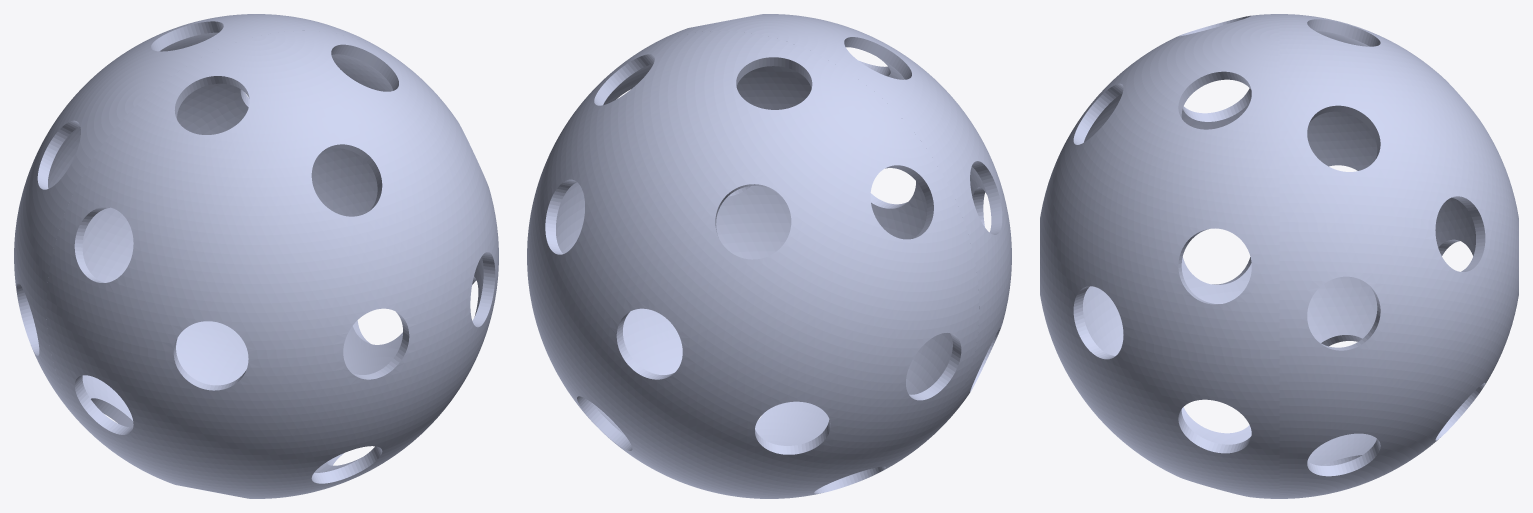
File: pollen.glb
3 renders of one model, left to right at view 1: azimuth 30°, elevation 25°; view 2: azimuth 150°, elevation 25°; view 3: azimuth 270°, elevation 25°, orthographic.
Visible parts, largest first — view 1: am-5851_yellow Neutral Pollen; view 2: am-5851_yellow Neutral Pollen; view 3: am-5851_yellow Neutral Pollen.
Part boxes in pixels (x1,y1,x2,y2): am-5851_yellow Neutral Pollen: (14,14,498,498); am-5851_yellow Neutral Pollen: (527,14,1011,498); am-5851_yellow Neutral Pollen: (1040,14,1518,498).
Size of the model in its own units: 2.8 by 2.8 by 2.77.
